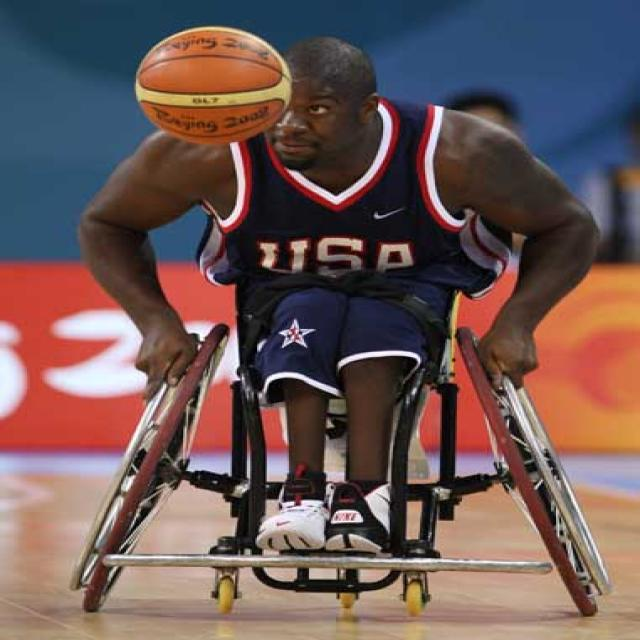wheelchairs: (70, 302, 628, 622)
